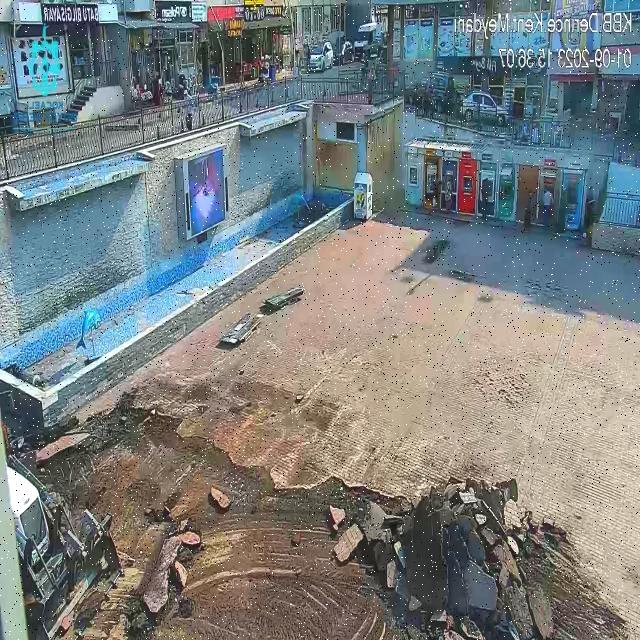Car: (454, 88, 508, 126), (302, 33, 335, 77)
Van: (352, 12, 378, 61)
